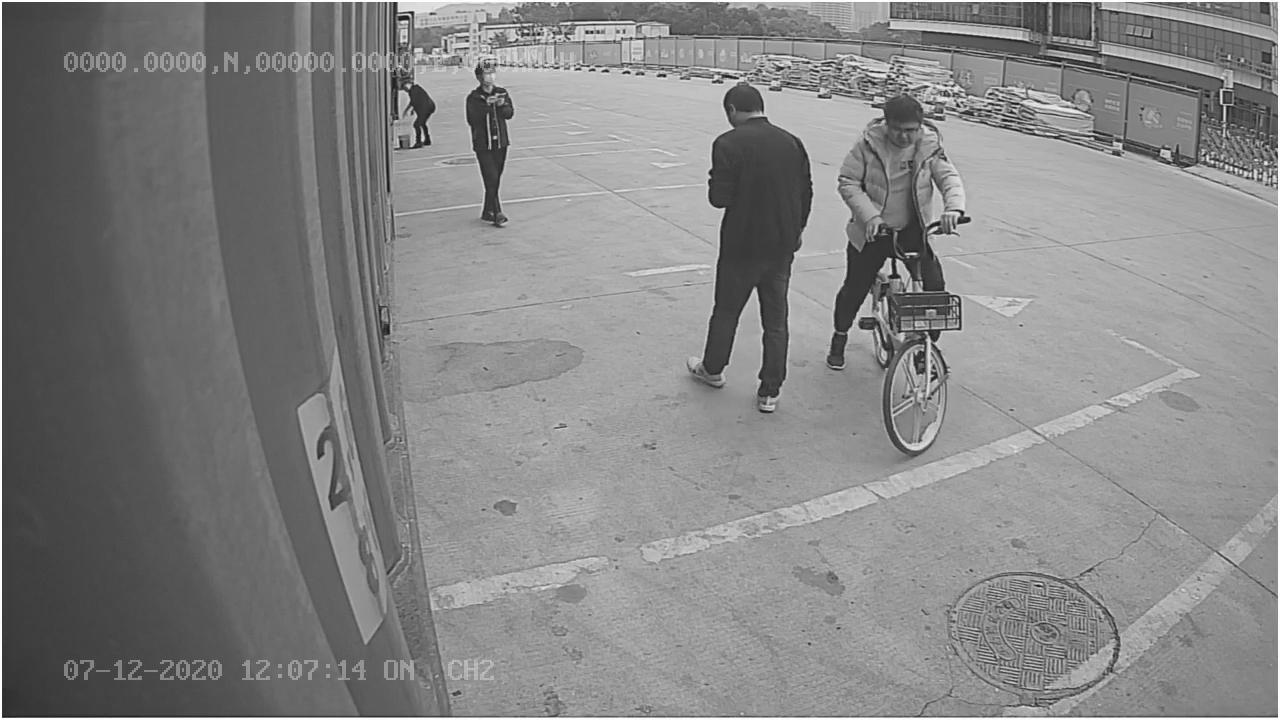person: (682, 79, 813, 418)
